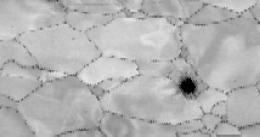good_void: (176, 74, 198, 96)
